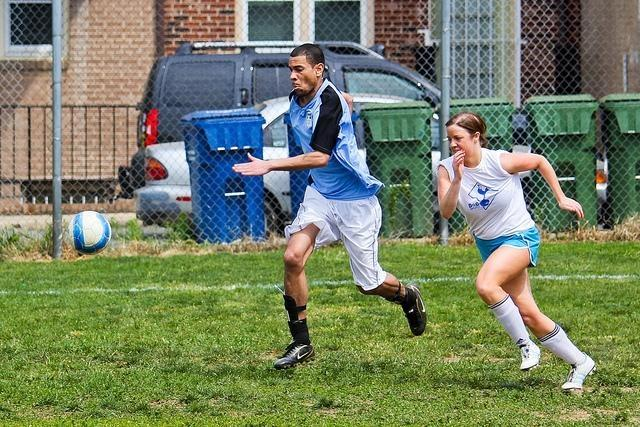car: (138, 40, 442, 148), (134, 95, 287, 216)
